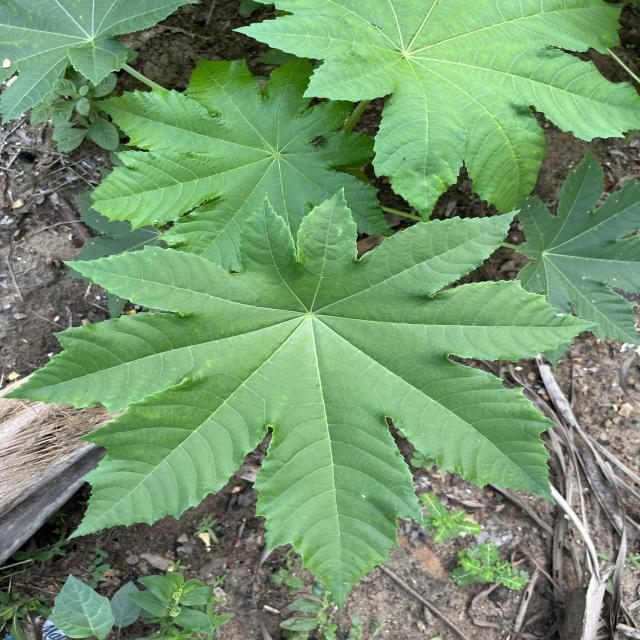Ricinus communis linn: (0, 179, 605, 616), (80, 51, 400, 274)
